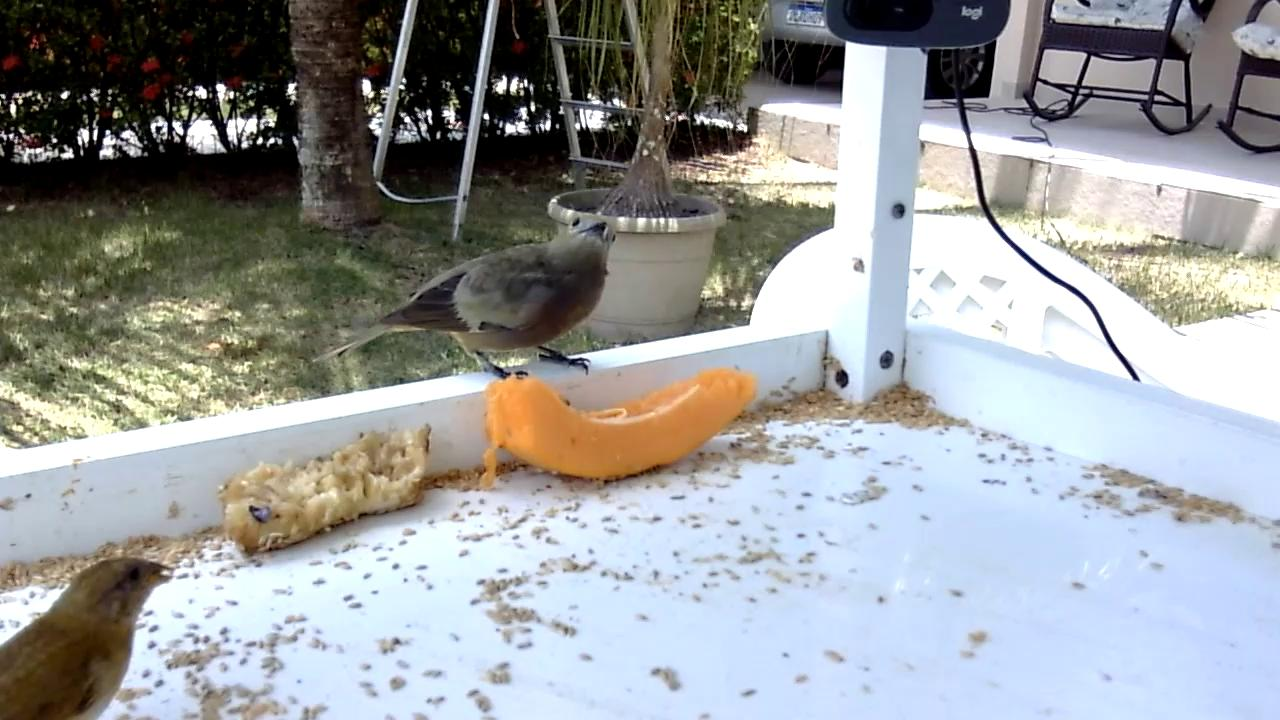canario_do_amazonas: (1, 553, 177, 720)
sanhaco_do_coqueiro: (309, 212, 621, 385)
